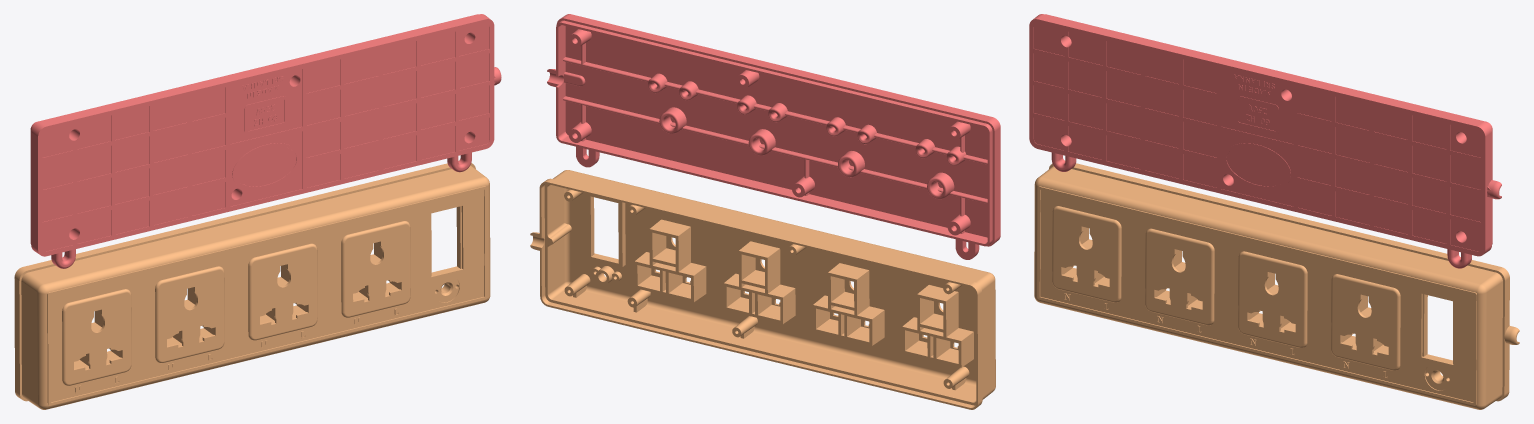
The model's file is Multiplug.gltf.
3 renders of one model, left to right at view 1: azimuth 30°, elevation 25°; view 2: azimuth 150°, elevation 25°; view 3: azimuth 330°, elevation 25°, orthographic. The views are drawn at different scales.
Visible parts, largest first — view 1: TC (2.19.19), BC (2.19.19); view 2: TC (2.19.19), BC (2.19.19); view 3: TC (2.19.19), BC (2.19.19).
Part boxes in pixels (box(x1,y1,x2,y2)): TC (2.19.19): box(14, 160, 490, 409); BC (2.19.19): box(30, 14, 501, 268); TC (2.19.19): box(530, 170, 995, 409); BC (2.19.19): box(547, 14, 1000, 259); TC (2.19.19): box(1034, 163, 1519, 409); BC (2.19.19): box(1029, 14, 1501, 268).
Size of the model in its own units: 0.2813 by 0.166 by 0.027.
